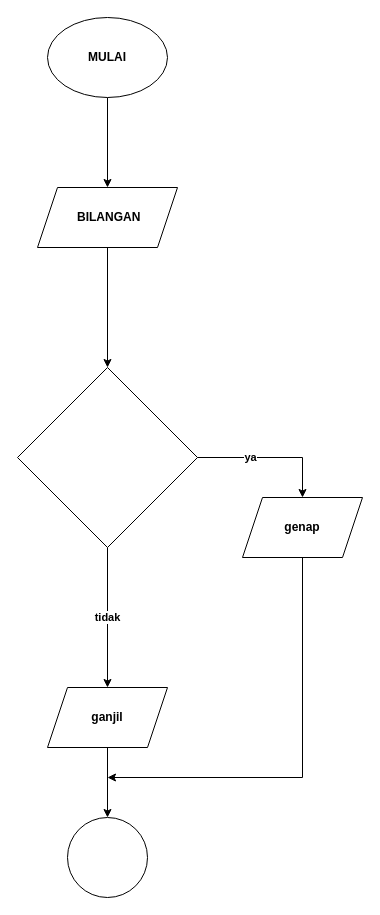
This 380x915 diagram has some shape labels left out. Here are the shapes that lost their labels. From the top down, the centre of each, then its label:
(107,457): bilangan mod 2 = 0
(107,857): selesai
